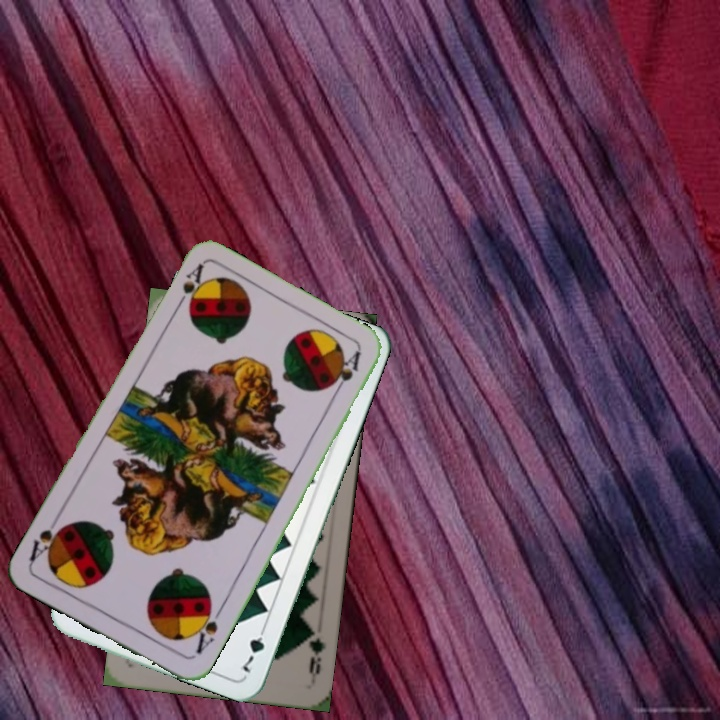G7: (238, 620, 270, 675)
G9: (302, 624, 328, 684)
SA: (189, 600, 225, 657), (170, 260, 206, 315)
